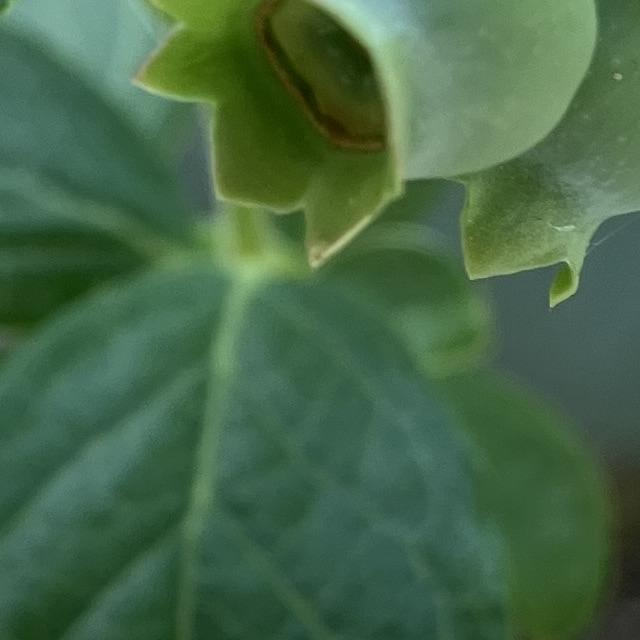Blueberries: (109, 0, 612, 282)
